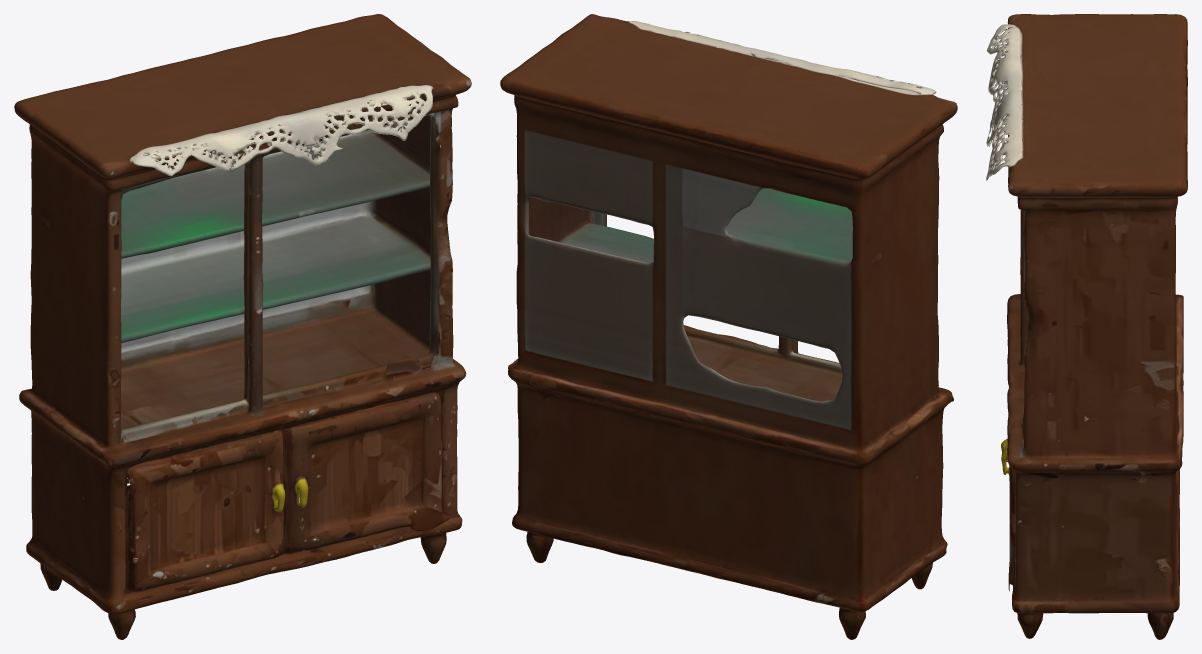
File: g67_artifact_cabinet.glb
3 renders of one model, left to right at view 1: azimuth 30°, elevation 25°; view 2: azimuth 150°, elevation 25°; view 3: azimuth 270°, elevation 25°, orthographic. The views are drawn at different scales.
Visible parts, largest first — view 1: tripo_node_03e987e3; view 2: tripo_node_03e987e3; view 3: tripo_node_03e987e3.
Boxes of the visible parts, bbox=[...] form: tripo_node_03e987e3: bbox=[14, 14, 471, 639]; tripo_node_03e987e3: bbox=[500, 14, 957, 639]; tripo_node_03e987e3: bbox=[986, 14, 1187, 639].
Size of the model in its own units: 76.83 by 97.66 by 37.83.
Materials: 1 (1 with a texture image).
